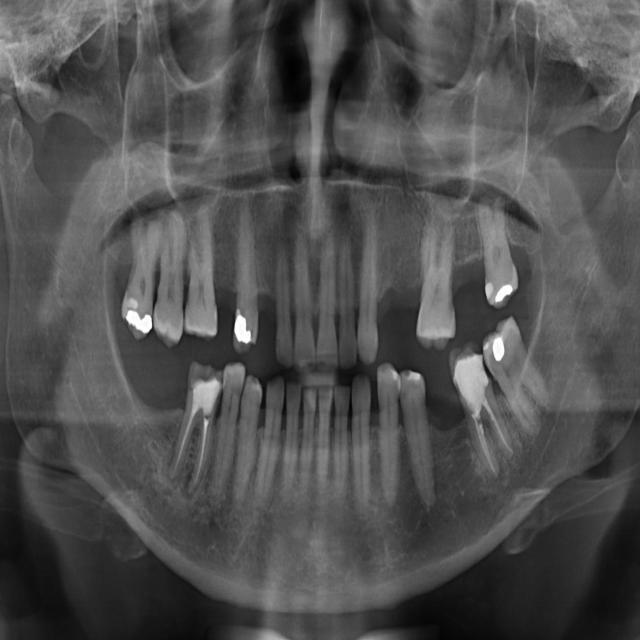3M ESPE Implant: (118, 211, 165, 342)
AGS Medikal Implant: (441, 340, 523, 485)
Amalgam filling: (153, 209, 185, 349)
Anthogyr Implant: (397, 368, 440, 513)
Bicon Implant: (378, 363, 400, 509)
BioHorizons Implant: (350, 375, 372, 515)
BioLife Implant: (334, 384, 350, 495)
Biomet 3i Implant: (317, 387, 332, 496)
Blue Sky Bio Implant: (299, 386, 317, 488)
Camlog Implant: (279, 381, 302, 497)
Caries: (336, 236, 357, 371)
Composite filling: (254, 374, 286, 514)
Cowellmedi Implant: (226, 374, 265, 509)
Crown: (211, 360, 246, 499)
DENTSPLY Implant: (180, 208, 219, 340)
Dentatus Implant: (164, 360, 227, 497)
Filling: (231, 198, 265, 355)
Hiossen Implant: (355, 206, 379, 368)
Implant: (294, 229, 315, 375)
Implant Direct: (275, 237, 293, 369)
Keystone Dental Implant: (313, 229, 338, 373)
Maxilla: (416, 207, 456, 353)
Neodent Implant: (475, 192, 521, 312)
Neoss Implant: (472, 315, 563, 439)
